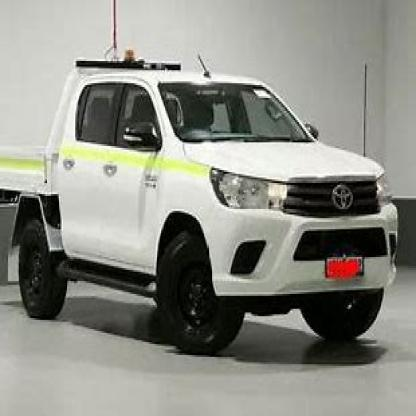light_vehicle: (0, 39, 404, 353)
